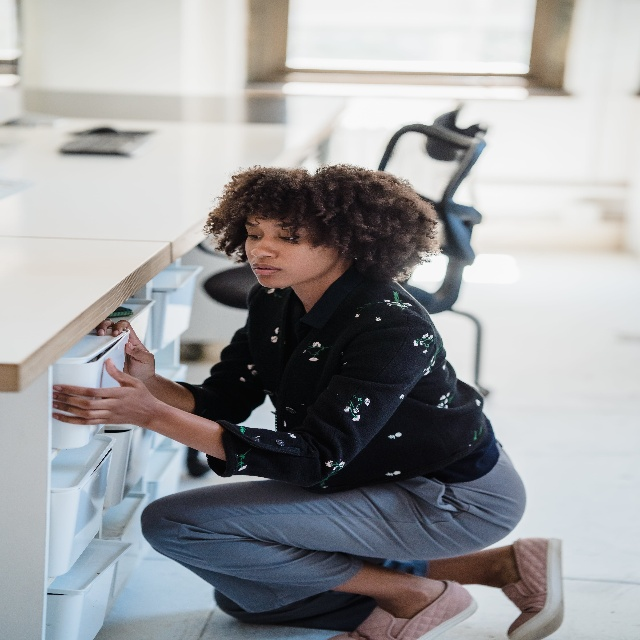Sin_guantes: (52, 358, 150, 431), (96, 316, 156, 384)
